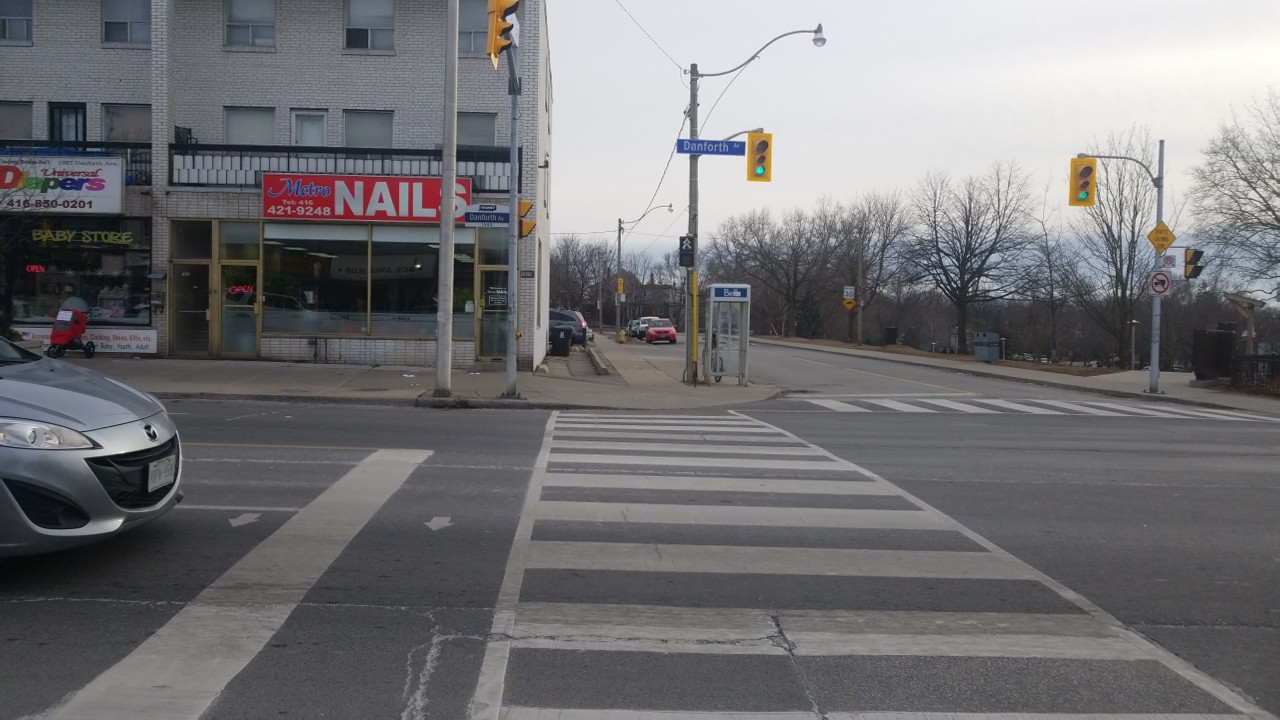light: (676, 234, 699, 268)
